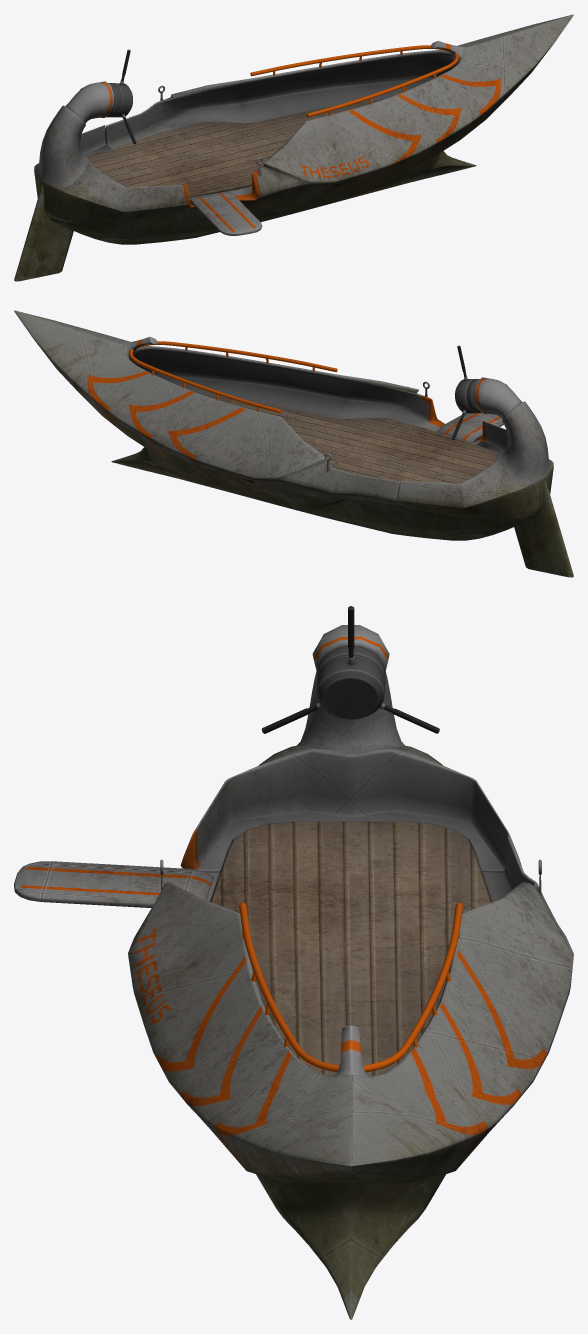
File: 05_02_boat.dae
3 views of the same model, one above another, from view 1: azimuth 30°, elevation 25°; view 2: azimuth 150°, elevation 25°; view 3: azimuth 270°, elevation 25° (orthographic). The views are drawn at different scales.
Visible parts, largest first — view 1: low; view 2: low; view 3: low.
Part boxes in pixels (<box>): low: <box>14,14,573,281</box>; low: <box>14,310,573,577</box>; low: <box>14,606,573,1319</box>.
Size of the model in its own units: 7.16 by 2.51 by 3.23.
